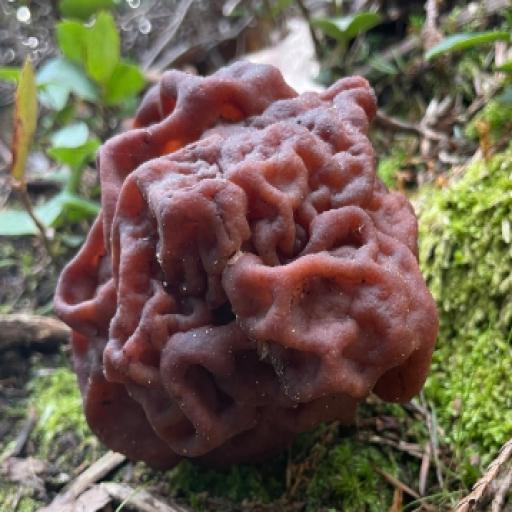mushroom: (58, 56, 448, 467)
